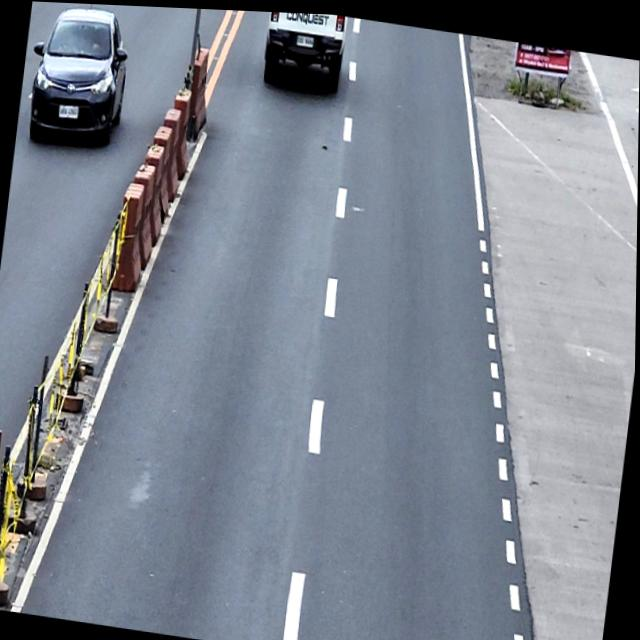Car: (21, 1, 133, 151), (259, 9, 347, 90)
License-Plate: (58, 103, 79, 118), (296, 32, 314, 45)
